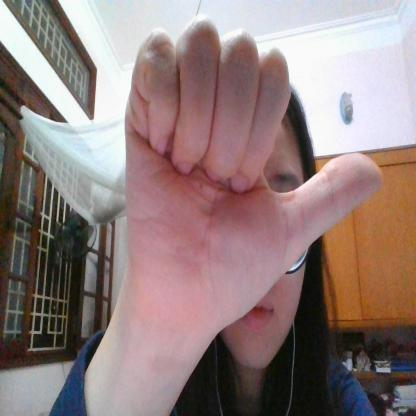left: (122, 17, 384, 314)
